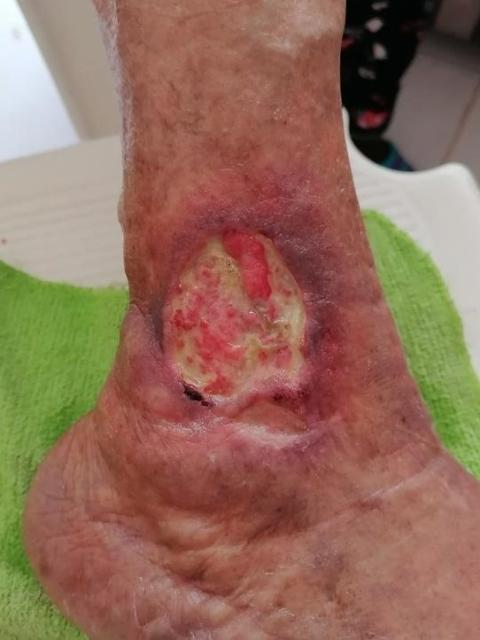wound: (165, 226, 308, 403)
